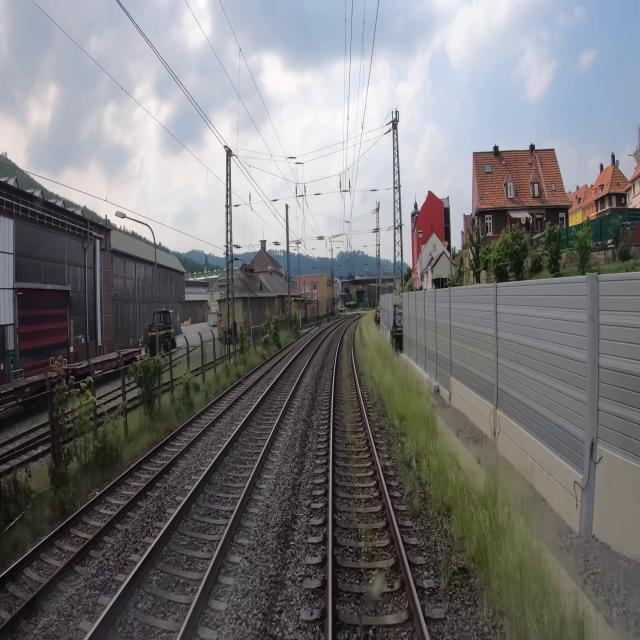Plant: (2, 359, 257, 558), (354, 314, 490, 592), (342, 318, 386, 603)
